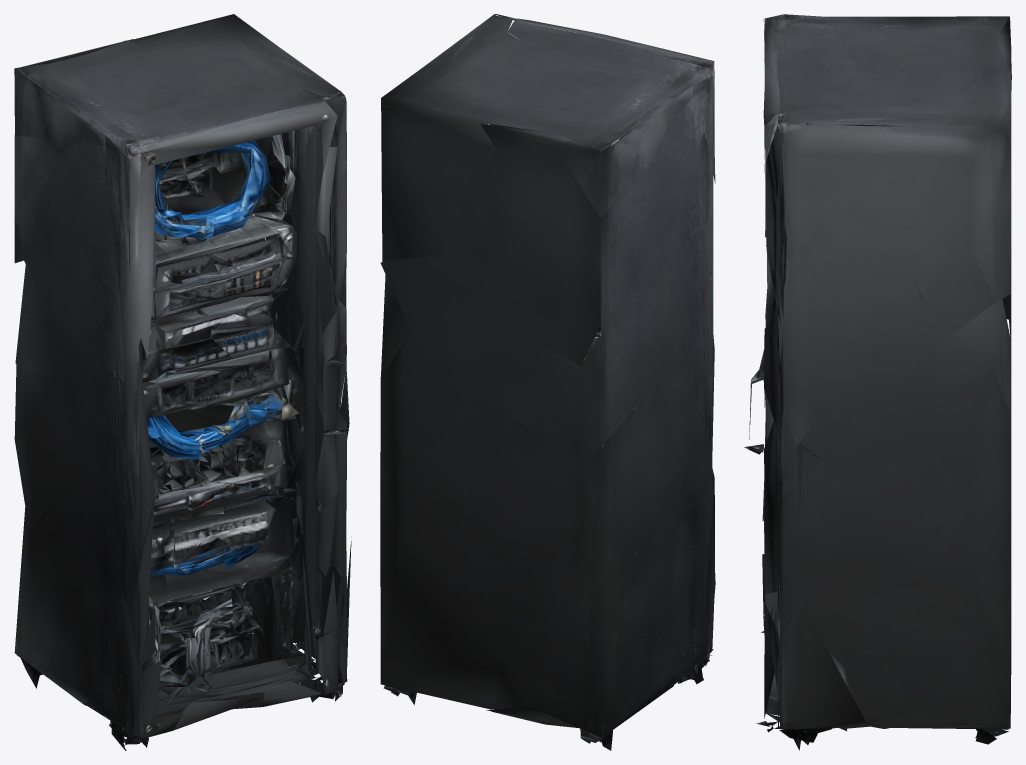
Rendered from server_rack_LOD1.fbx.
The picture shows the model from 3 angles, left to right: view 1: azimuth 30°, elevation 25°; view 2: azimuth 150°, elevation 25°; view 3: azimuth 270°, elevation 25°; orthographic projection. The views are drawn at different scales.
Parts seen in each view (by area): view 1: server_rack.001; view 2: server_rack.001; view 3: server_rack.001.
Boxes of the visible parts, <box> form: server_rack.001: <box>14,14,351,750</box>; server_rack.001: <box>380,14,715,750</box>; server_rack.001: <box>744,14,1011,750</box>.
Size of the model in its own units: 0.7721 by 1.99 by 0.7634.
1 material, 1 textured.
